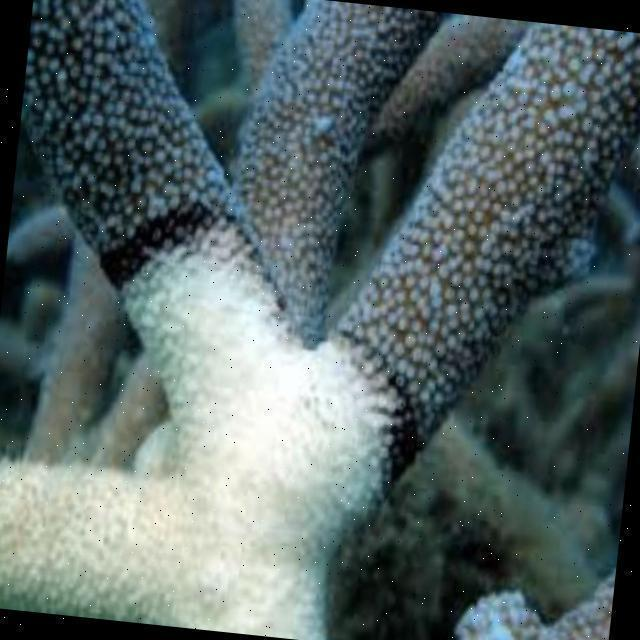Bleached Coral: (0, 225, 389, 640)
